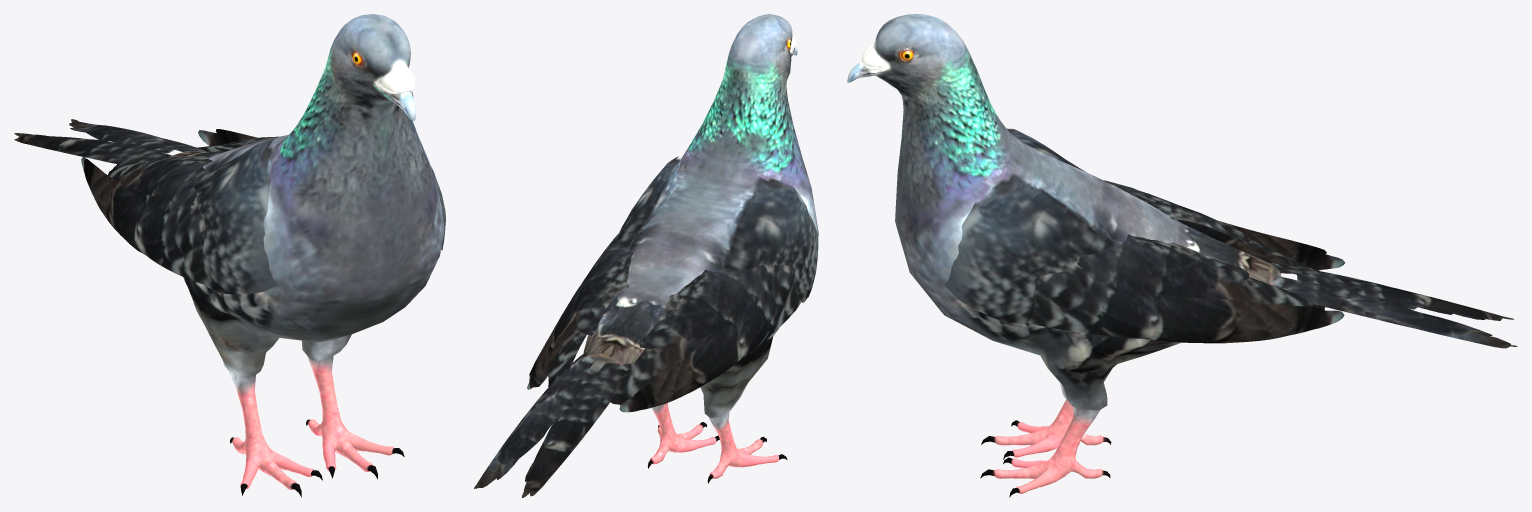
Rendered from gascogne-pigeon.glb.
The picture shows the model from 3 angles, left to right: view 1: azimuth 30°, elevation 25°; view 2: azimuth 150°, elevation 25°; view 3: azimuth 270°, elevation 25°; orthographic projection. The views are drawn at different scales.
Parts seen in each view (by area): view 1: Body_2; view 2: Body_2; view 3: Body_2.
Part boxes in pixels (x1,y1,x2,y2): Body_2: (14, 14, 445, 497); Body_2: (474, 14, 818, 497); Body_2: (847, 14, 1517, 497).
Size of the model in its own units: 0.5342 by 1.14 by 1.55.
Materials: 1 (1 with a texture image).
